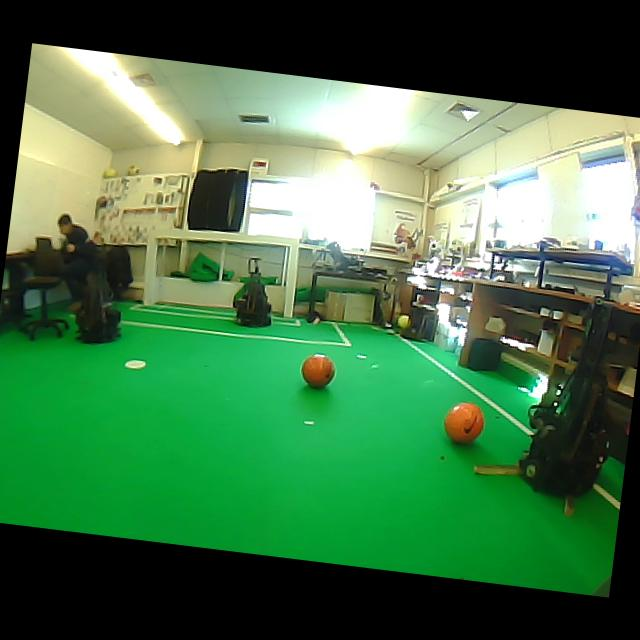ball: (444, 402, 483, 442), (301, 353, 334, 387), (396, 314, 409, 327), (103, 167, 116, 178), (126, 165, 138, 175)
goal: (282, 239, 298, 317), (142, 236, 158, 304)
robot: (519, 300, 611, 495), (77, 269, 121, 343), (233, 257, 270, 326)
